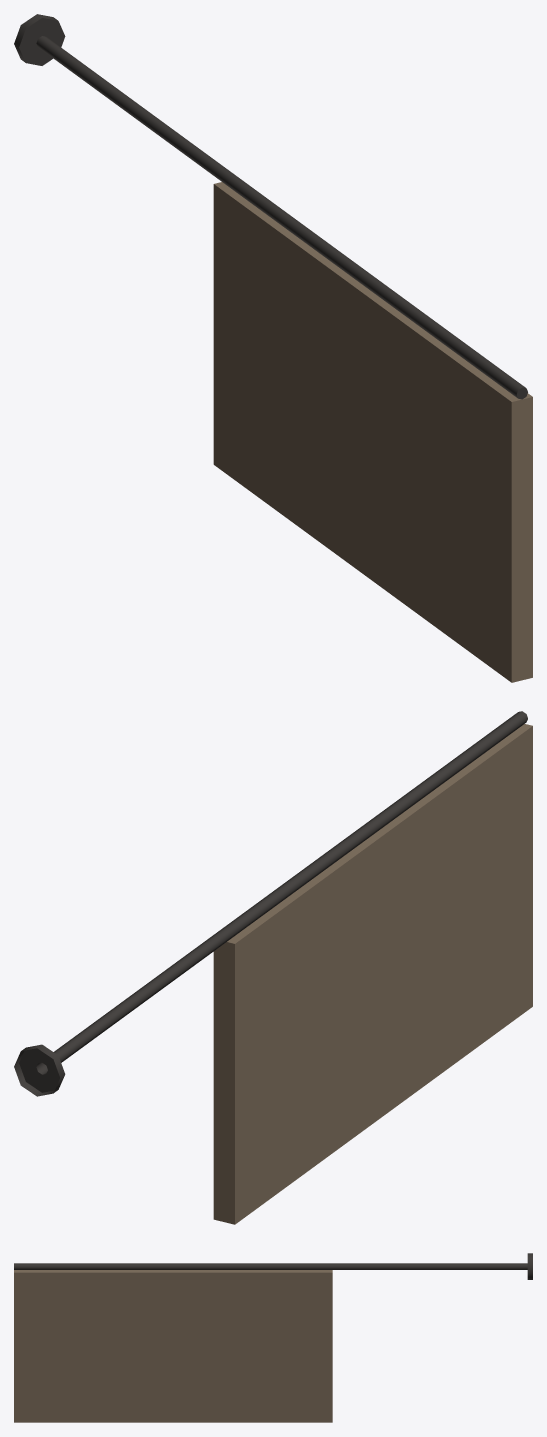
The model's file is PS_Sign01.fbx.
3 renders of one model, top to bottom at view 1: azimuth 30°, elevation 25°; view 2: azimuth 150°, elevation 25°; view 3: azimuth 270°, elevation 25°, orthographic. The views are drawn at different scales.
Parts seen in each view (by area): view 1: PS_Sign01; view 2: PS_Sign01; view 3: PS_Sign01.
Boxes of the visible parts, left/top/right/bottom form: PS_Sign01: left=14, top=14, right=532, bottom=682; PS_Sign01: left=14, top=711, right=532, bottom=1224; PS_Sign01: left=14, top=1253, right=532, bottom=1422.
Bounding box in the file's own units: 0.1102 × 0.7073 × 2.
